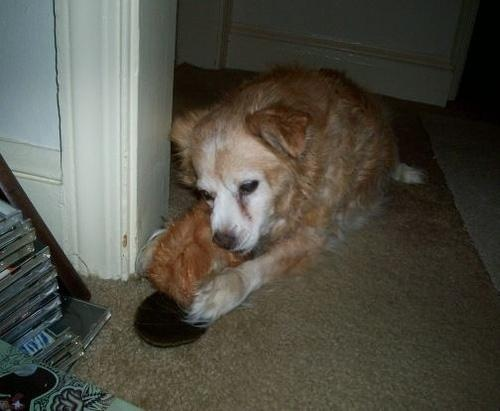dog: (140, 64, 433, 322)
